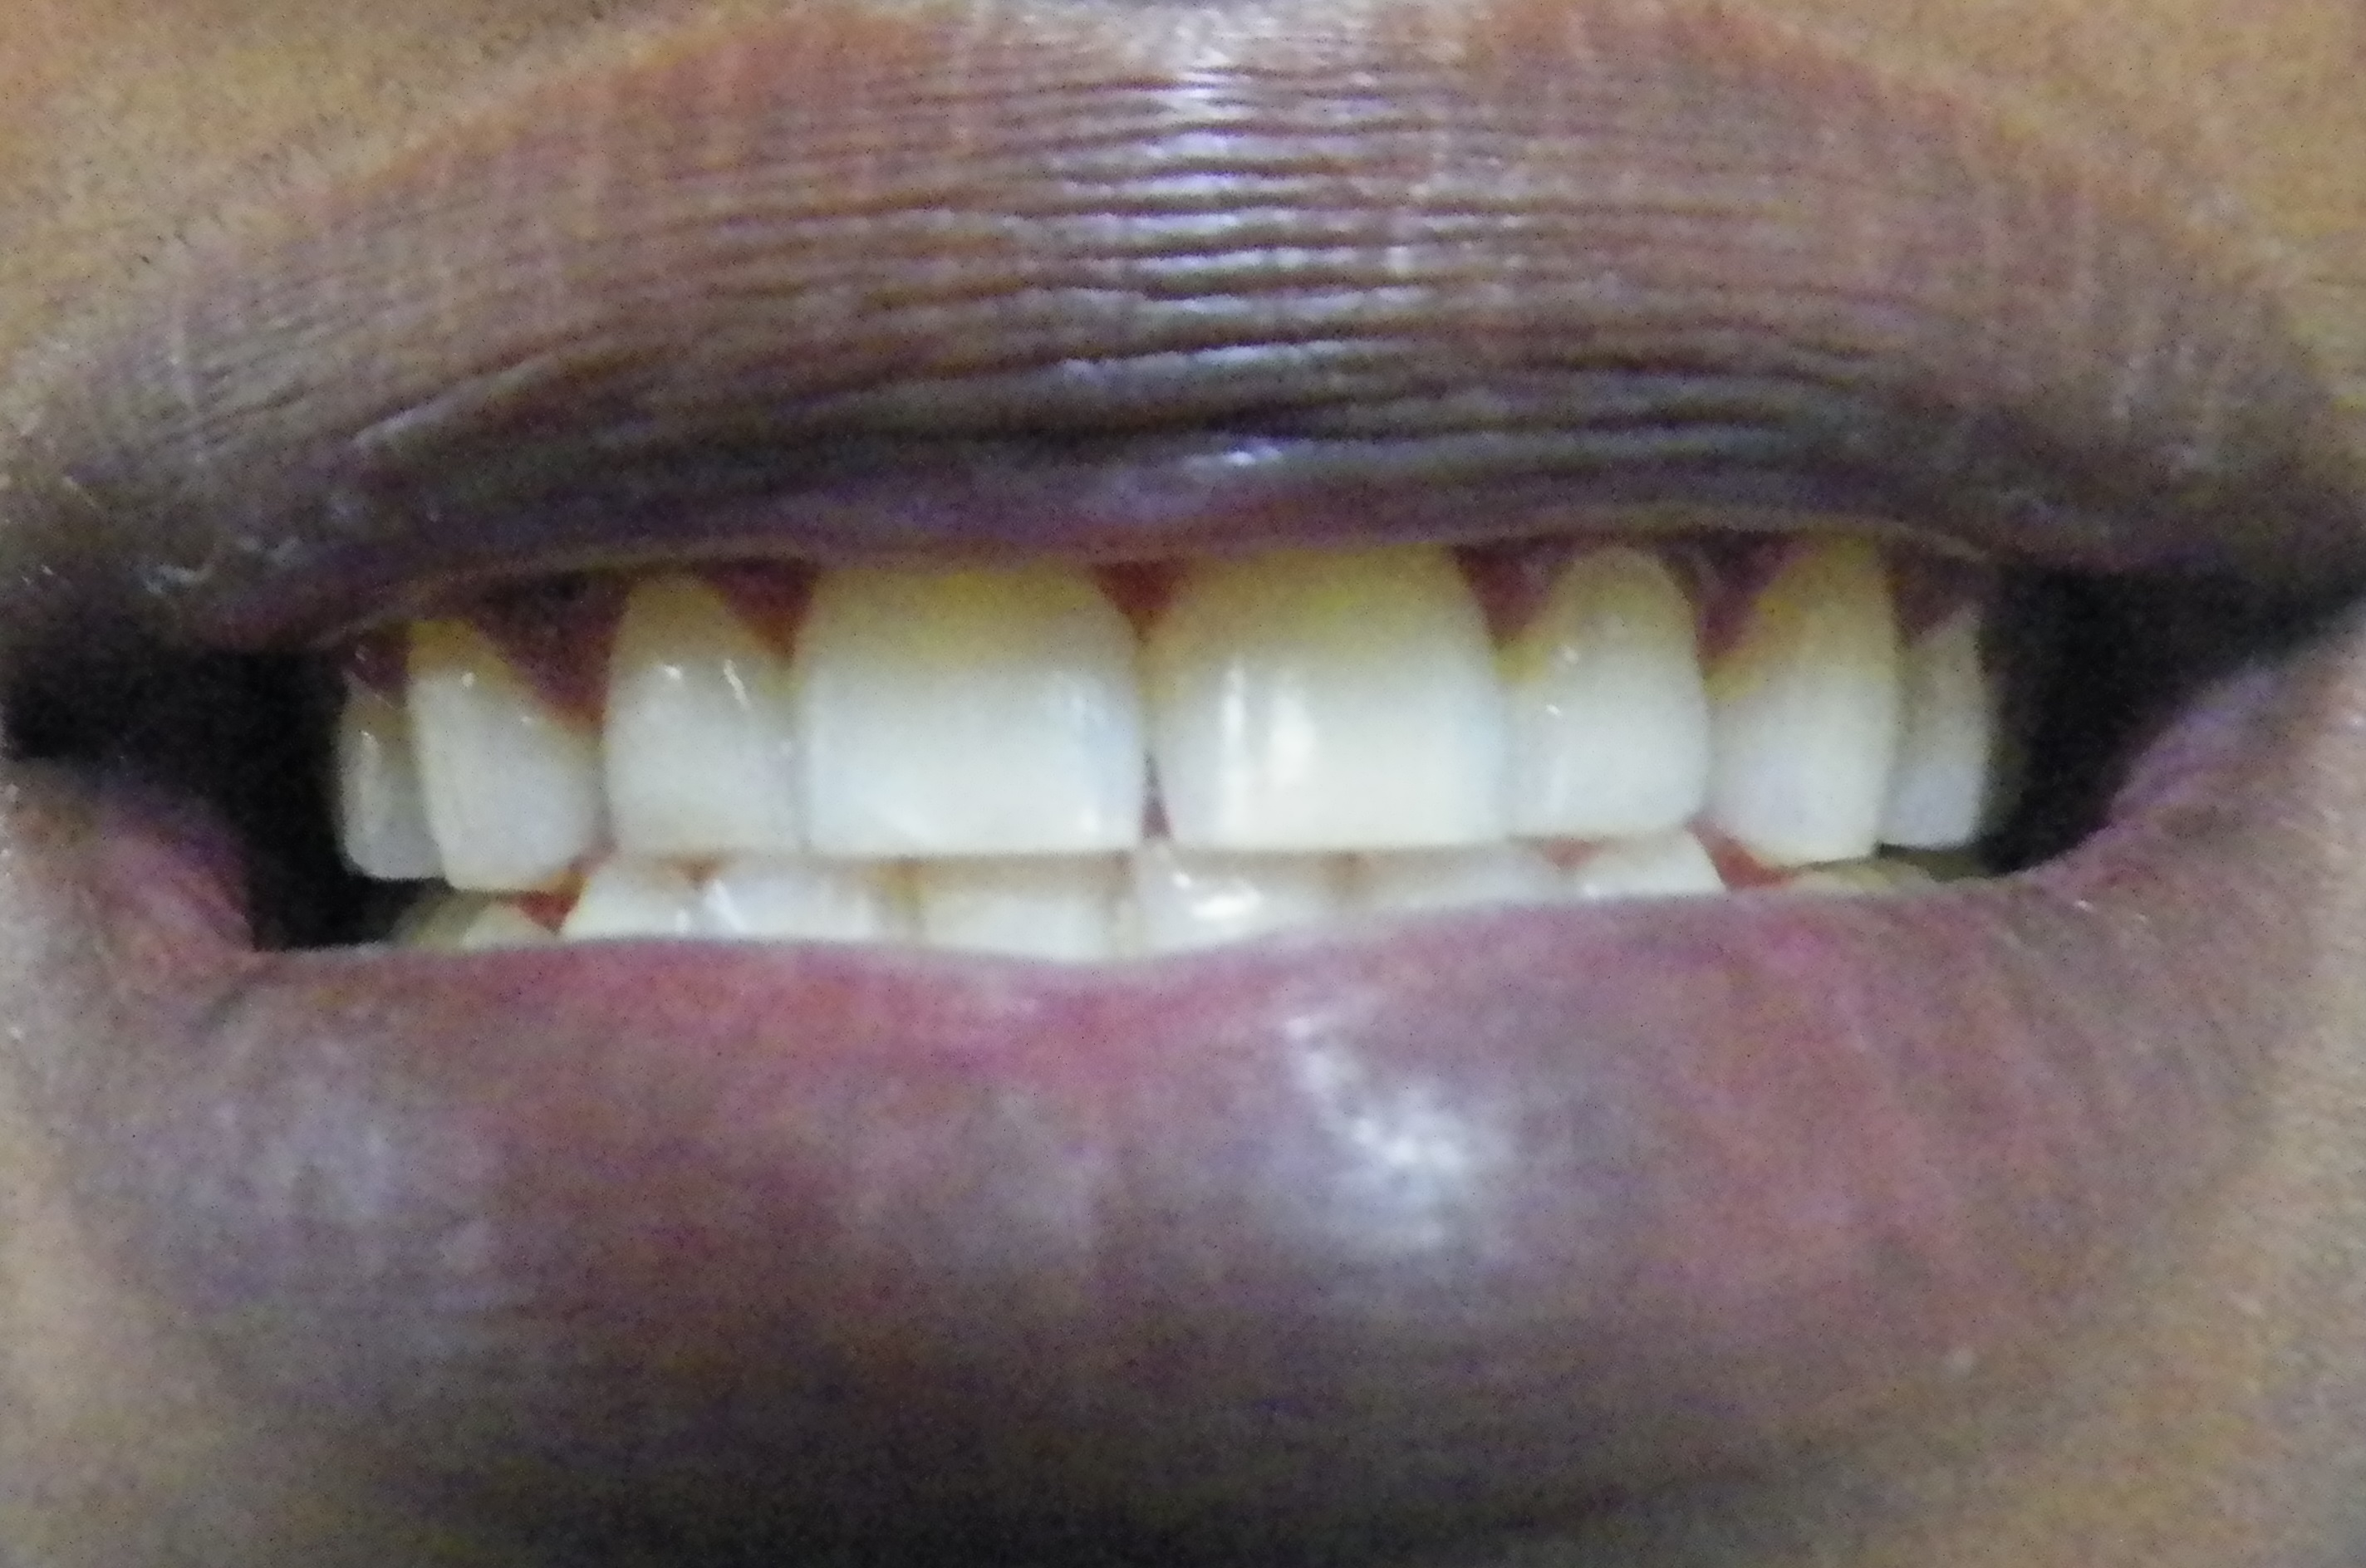boca: (320, 553, 1995, 950)
